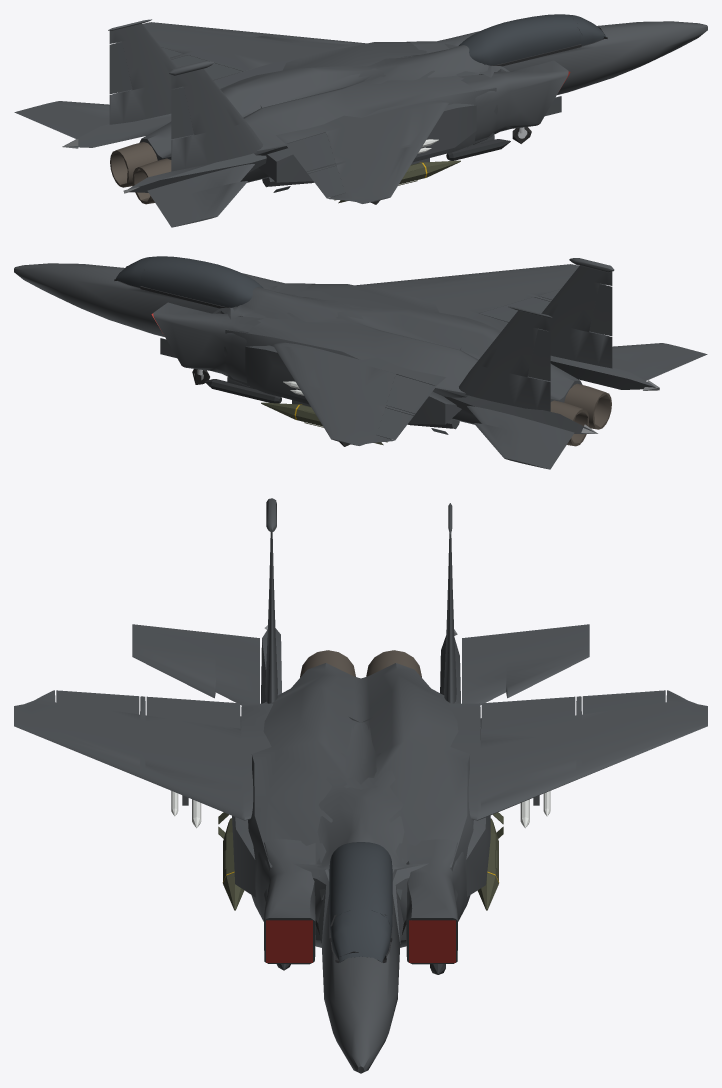
File: zf25_static3.glb
3 renders of one model, top to bottom at view 1: azimuth 30°, elevation 25°; view 2: azimuth 150°, elevation 25°; view 3: azimuth 270°, elevation 25°, orthographic. The views are drawn at different scales.
Parts seen in each view (by area): view 1: zf25; view 2: zf25; view 3: zf25.
Boxes of the visible parts, left/top/right/bottom form: zf25: left=14, top=14, right=707, bottom=227; zf25: left=14, top=256, right=707, bottom=469; zf25: left=14, top=498, right=707, bottom=1073.
Bounding box in the file's own units: 19.36 × 5.7 × 13.05.
